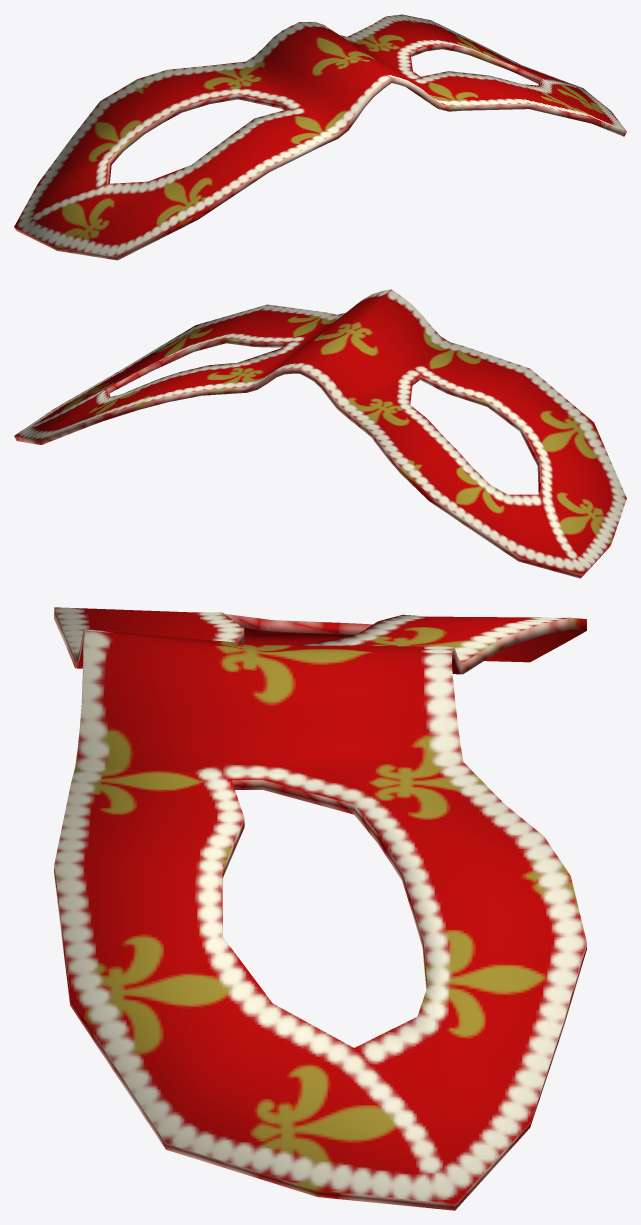
The model's file is eyemask_1.fbx.
3 renders of one model, top to bottom at view 1: azimuth 30°, elevation 25°; view 2: azimuth 150°, elevation 25°; view 3: azimuth 270°, elevation 25°, orthographic. The views are drawn at different scales.
Parts seen in each view (by area): view 1: eyemask; view 2: eyemask; view 3: eyemask.
Boxes of the visible parts, x1,y1,x2,y2 form: eyemask: (14,14,626,260); eyemask: (14,289,626,578); eyemask: (54,607,586,1210).
Size of the model in its own units: 225 by 57.59 by 91.1.
1 material, 1 textured.
